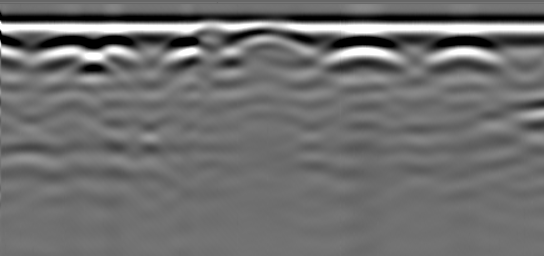pipe: (241, 22, 306, 46), (189, 23, 229, 44)
steel: (325, 37, 407, 71), (425, 35, 504, 67), (35, 33, 94, 65), (99, 34, 144, 69)
